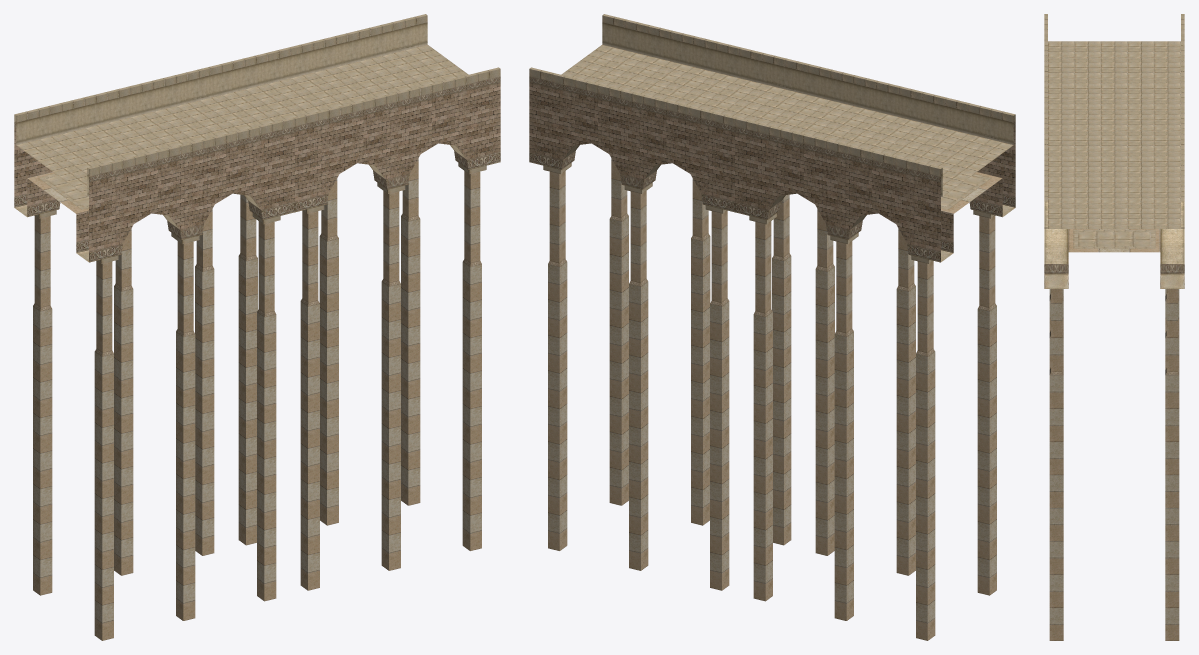
File: thm_nboo_imprv_elevated_walkway_s02_l1.fbx
3 views of the same model, side by side, from view 1: azimuth 30°, elevation 25°; view 2: azimuth 150°, elevation 25°; view 3: azimuth 270°, elevation 25° (orthographic). The views are drawn at different scales.
Parts seen in each view (by area): view 1: mesh_node; view 2: mesh_node; view 3: mesh_node.
Part boxes in pixels (left/top/right/bottom): mesh_node: left=14, top=14, right=500, bottom=640; mesh_node: left=529, top=14, right=1015, bottom=640; mesh_node: left=1044, top=14, right=1184, bottom=640.
Size of the model in its own units: 16.5 by 18.3 by 5.2.
